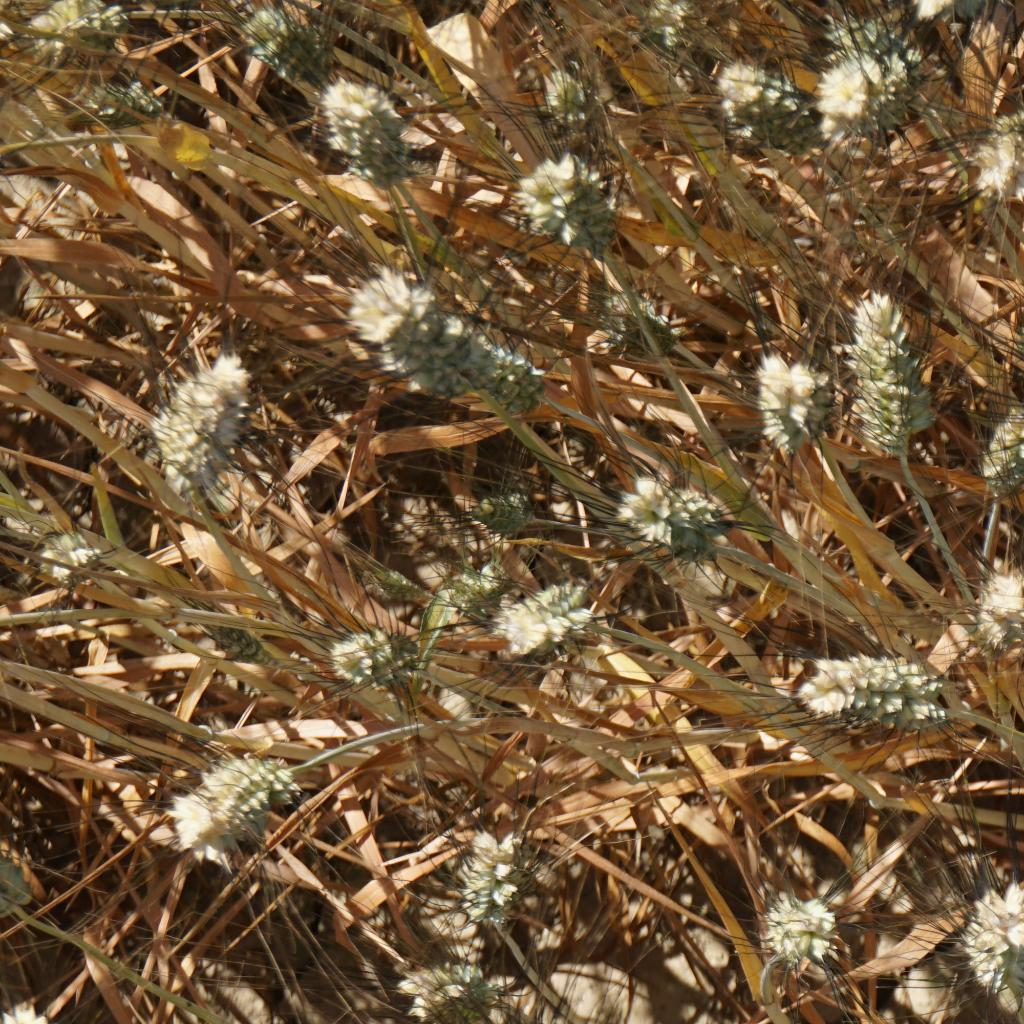0-0: (350, 249, 527, 405), (795, 633, 949, 744), (837, 277, 927, 453), (134, 348, 260, 470), (425, 817, 529, 954), (149, 746, 287, 838), (803, 33, 915, 141), (372, 943, 507, 1024), (494, 147, 614, 238), (313, 69, 413, 177), (3, 0, 153, 71), (185, 591, 300, 683), (744, 348, 833, 464), (624, 462, 732, 555), (742, 872, 852, 961), (707, 49, 803, 145), (488, 572, 600, 653), (600, 281, 695, 362), (531, 55, 620, 135), (966, 882, 1024, 1002), (954, 391, 1021, 488), (224, 4, 316, 74), (65, 74, 175, 130), (316, 620, 411, 683), (28, 521, 111, 591), (968, 118, 1024, 218), (429, 553, 496, 628), (469, 479, 549, 539), (355, 557, 435, 609), (974, 570, 1024, 649), (631, 0, 691, 60), (1002, 305, 1024, 381), (0, 1001, 58, 1024)
